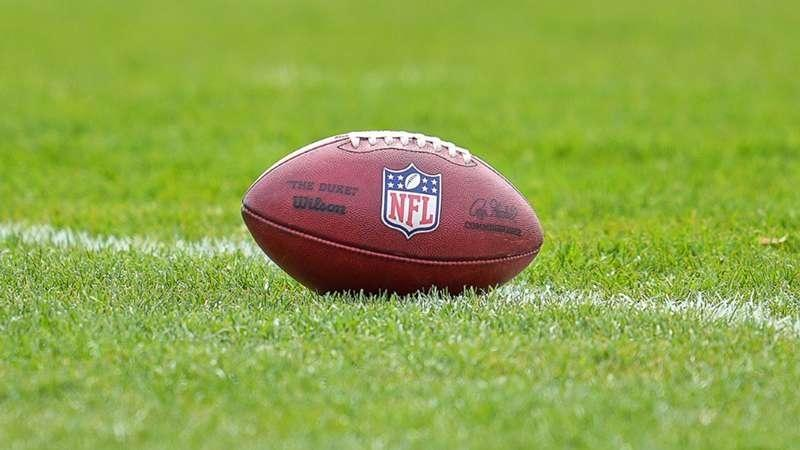Sports-Ball: (242, 131, 544, 292)
